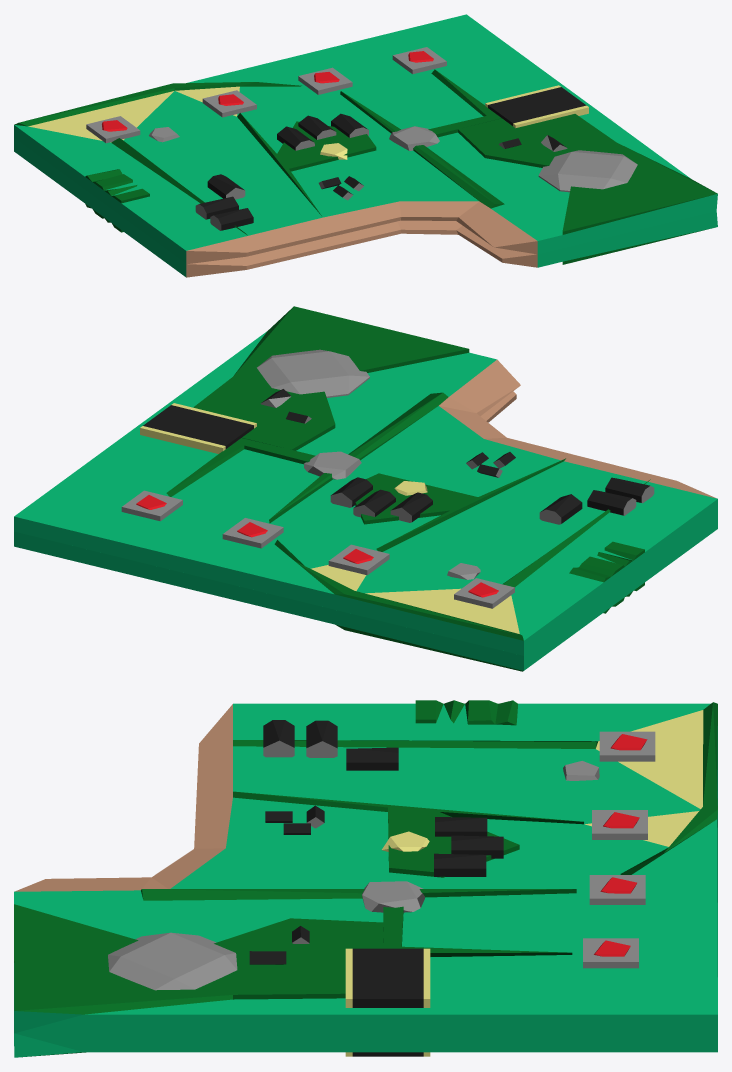
File: carte_elec2.fbx
The picture shows the model from 3 angles, top to bottom: view 1: azimuth 30°, elevation 25°; view 2: azimuth 150°, elevation 25°; view 3: azimuth 270°, elevation 25°; orthographic projection. The views are drawn at different scales.
Parts seen in each view (by area): view 1: Cube.004; view 2: Cube.004; view 3: Cube.004.
Part boxes in pixels (<box>): Cube.004: <box>14,14,717,277</box>; Cube.004: <box>14,306,717,671</box>; Cube.004: <box>14,700,717,1057</box>.
Size of the model in its own units: 1027 by 108 by 980.
